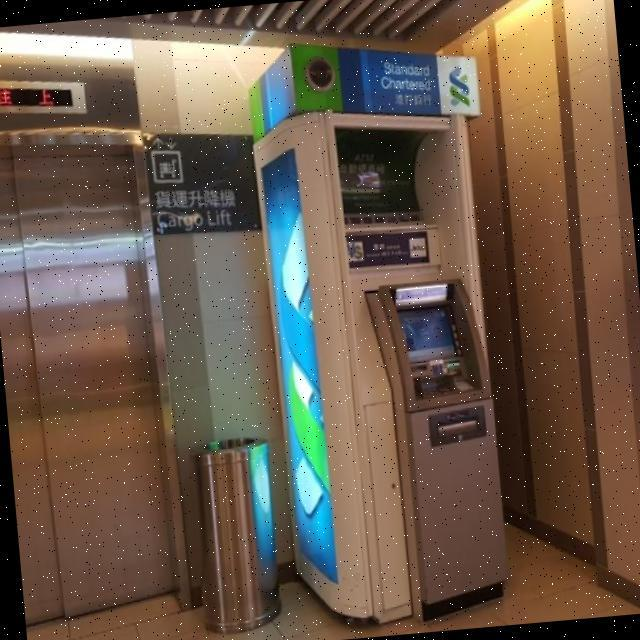Standard Chartered: (374, 49, 475, 111)
